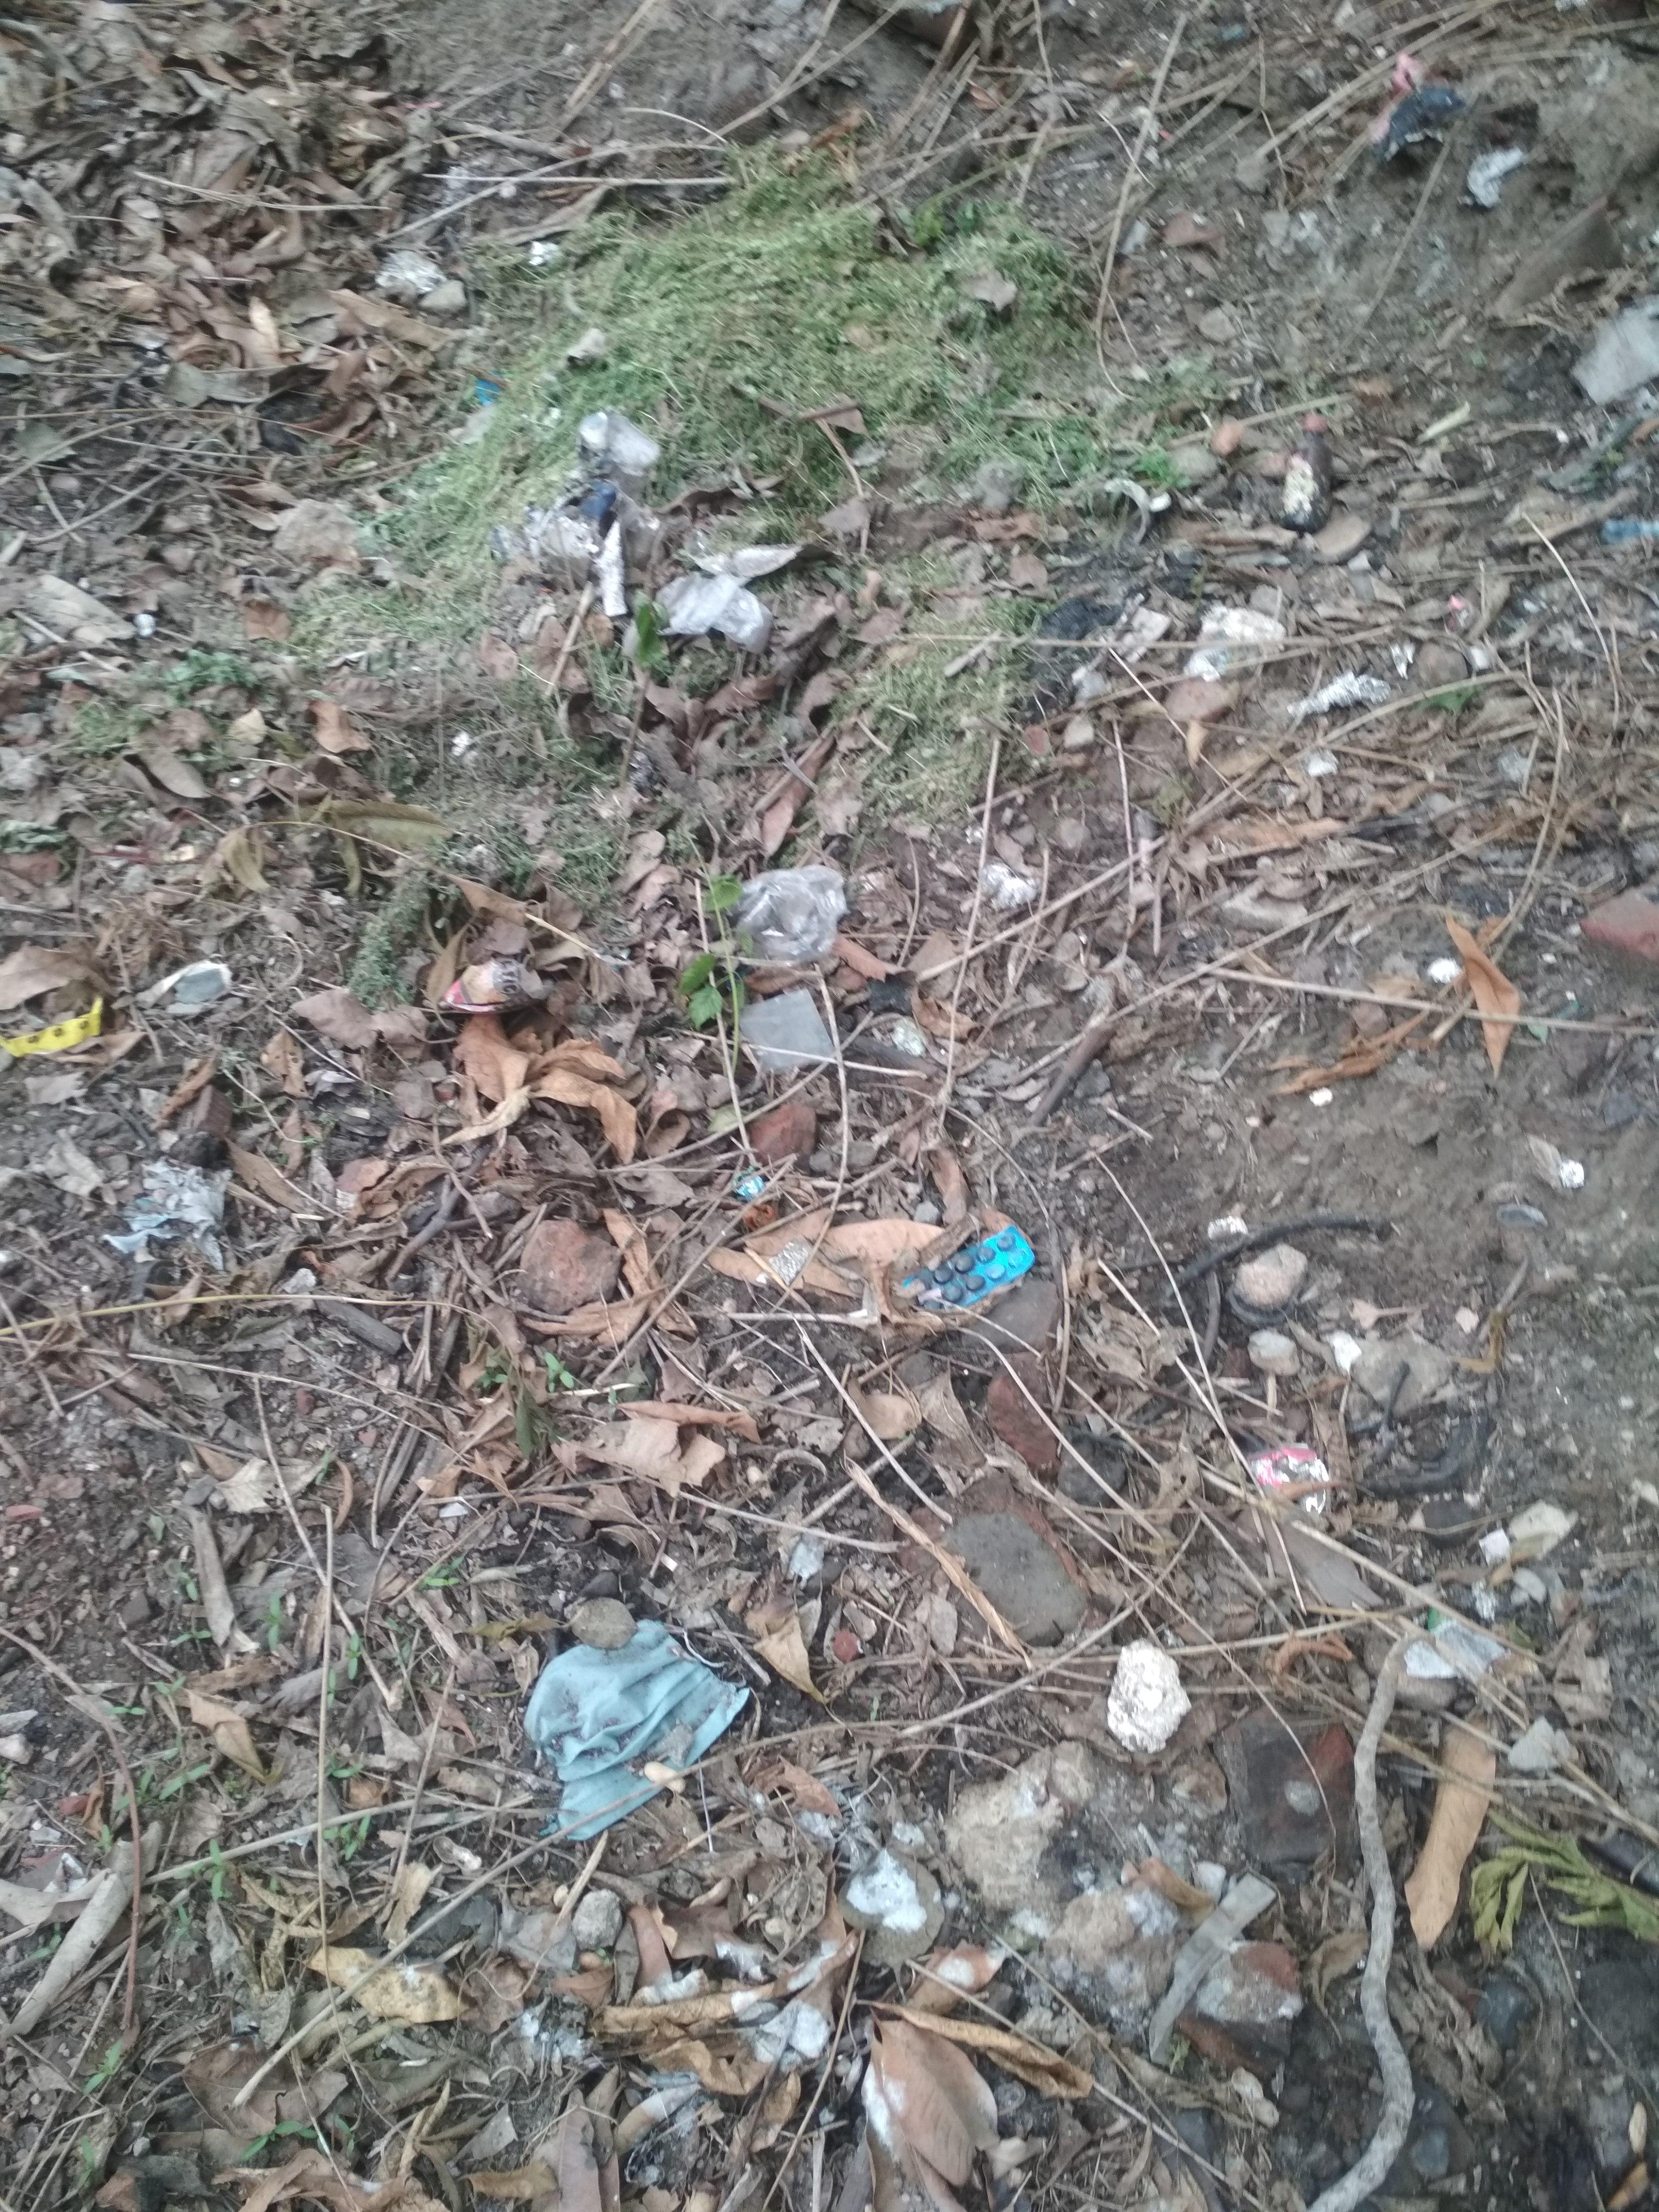organic: (519, 1171, 1026, 1859)
